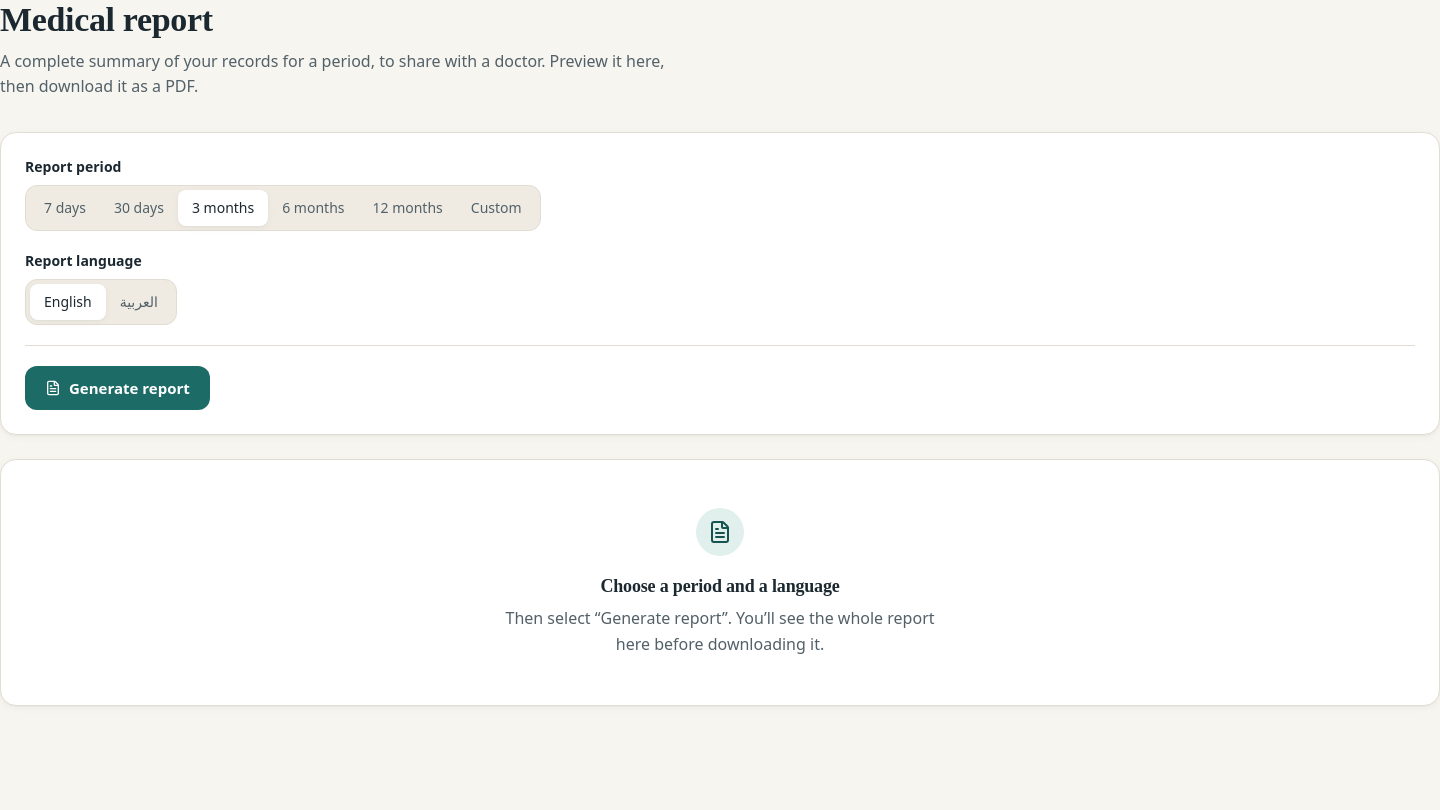
Test: MedicalReportPage › explains a failed download
Step 1. Click the button "Generate report" → (117, 388), box x1=25 y1=366 x2=210 y2=410
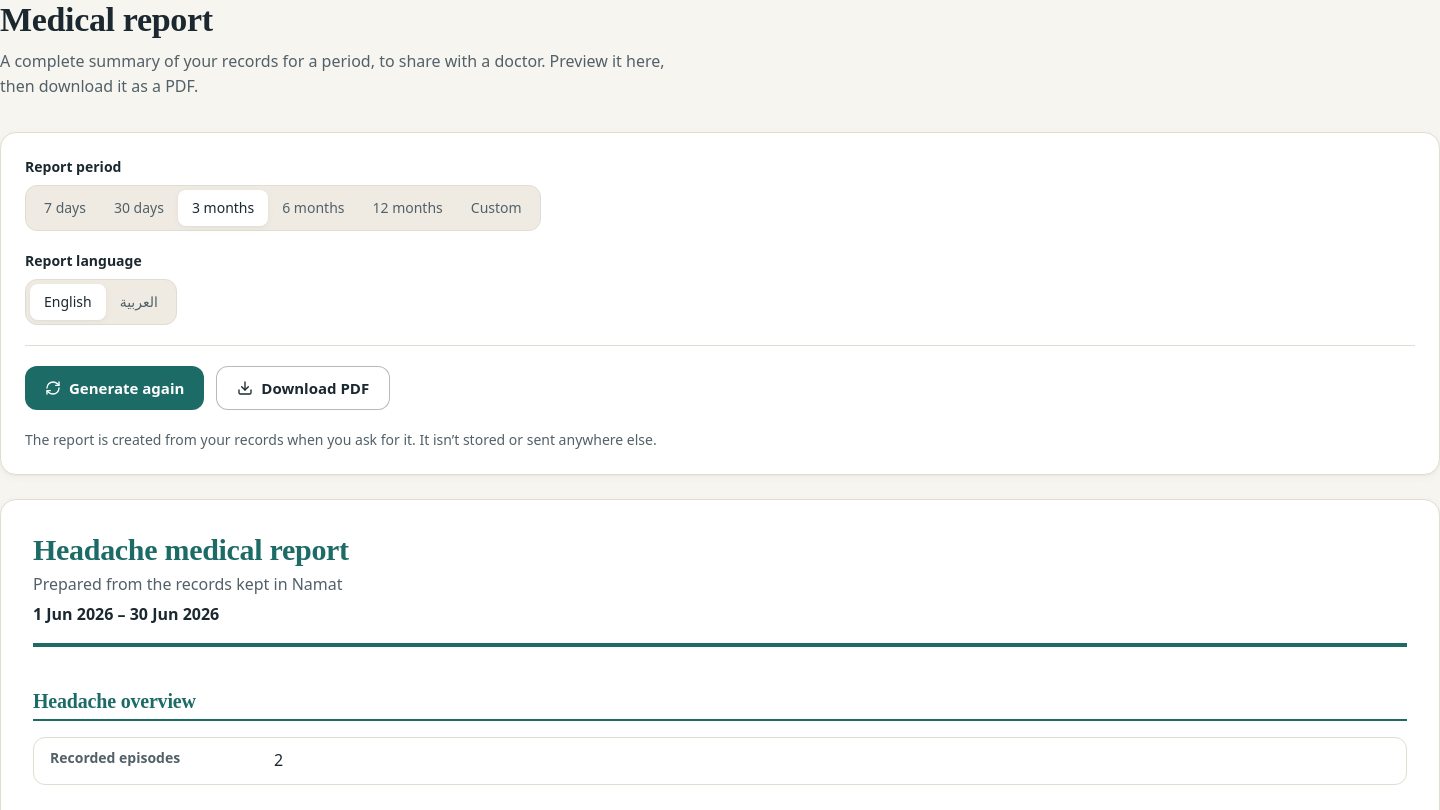
Now the heading "Headache medical report" is shown, box x1=33 y1=533 x2=349 y2=566
Step 2. Click the button "Download PDF" → (303, 388), box x1=216 y1=366 x2=390 y2=410
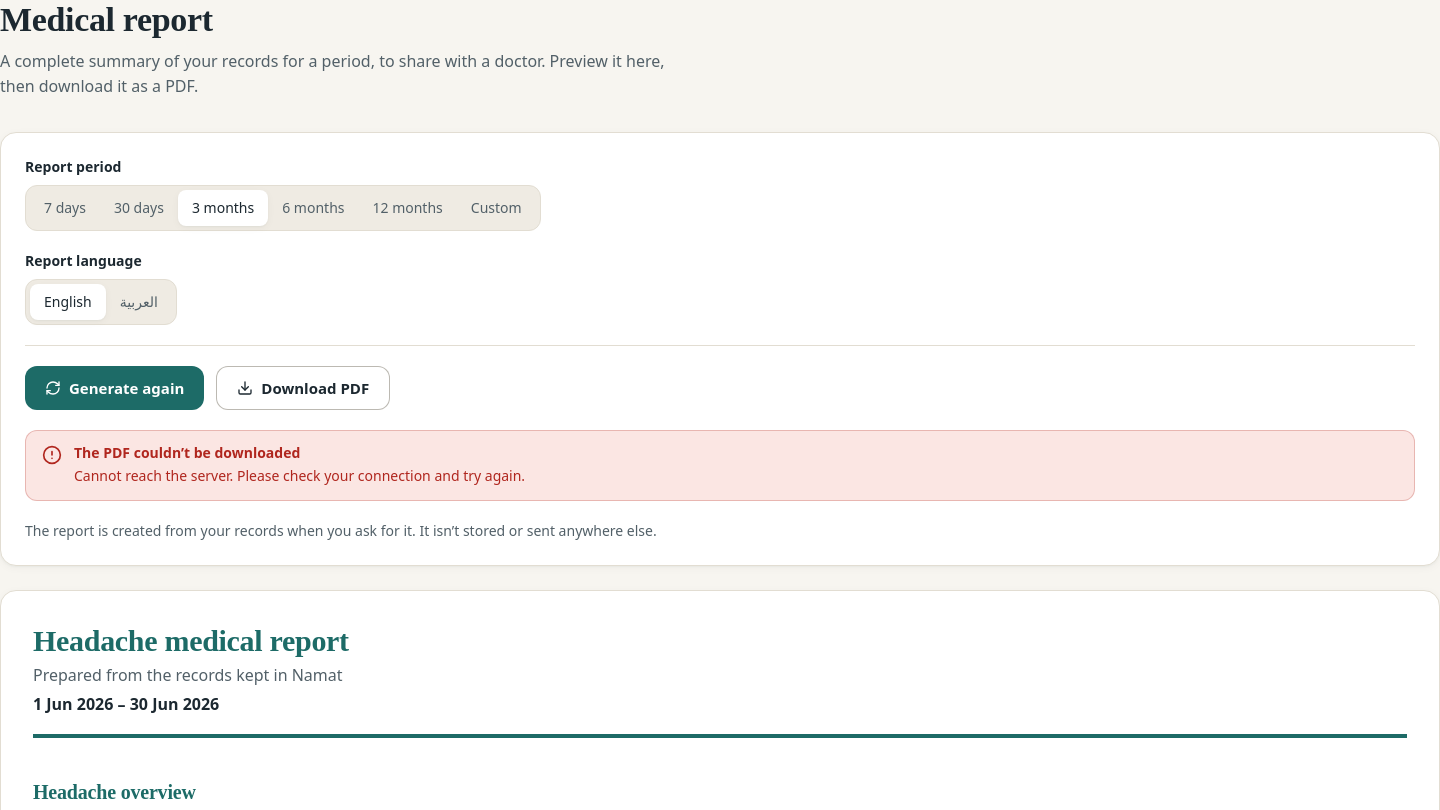
Now the text "The PDF couldn’t be downloaded" is shown, box x1=74 y1=443 x2=300 y2=462
